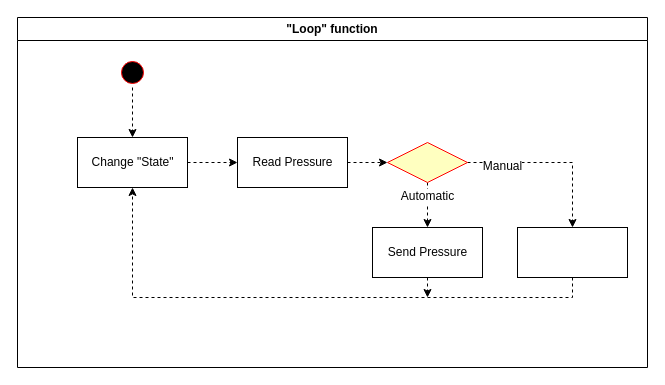
Some shapes in this 665 by 385 pixel diagram are drawn without their labels. Here are the shapes that lost their labels. From the top down, the centre of each, then its label:
At [427,162]: "Mode".
At [572,252]: "Send State".
